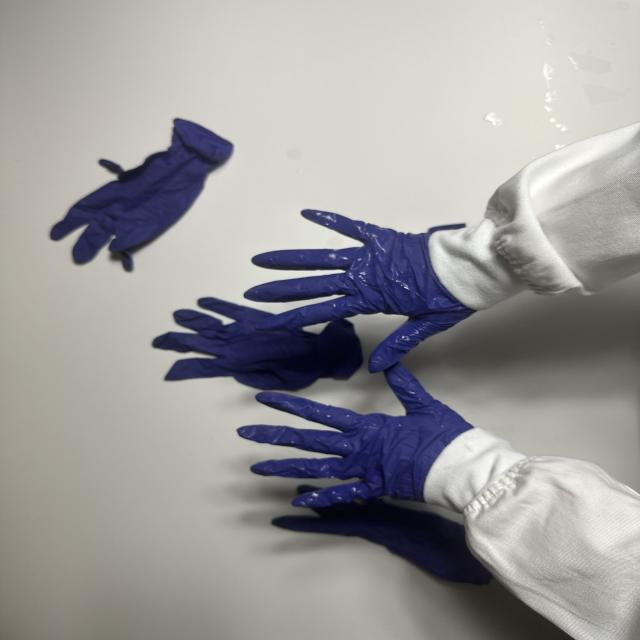gloves_contaminated: (245, 210, 474, 372), (238, 364, 472, 507)
